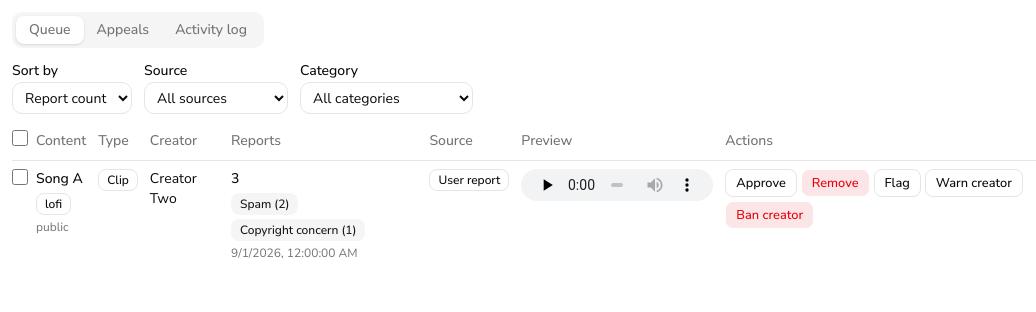
ModerationDashboard › approves a clip in one click, then refetches the queue (AC2)
Click the button "Approve".
click(761, 183)  # box [725,169,797,197]
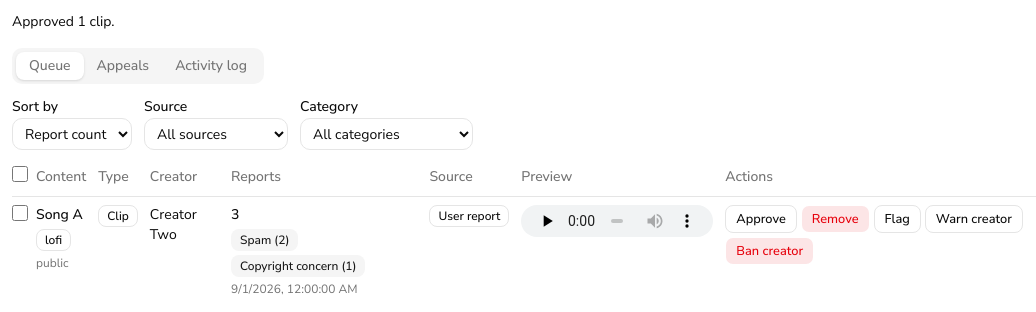
Result: the message reads "Approved 1 clip." at [12,12,114,31]
